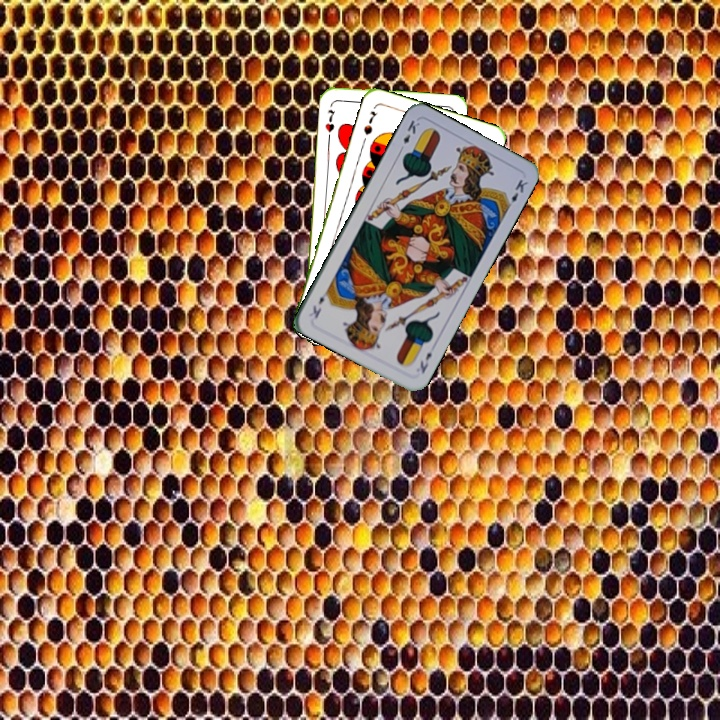EK: (396, 116, 423, 154), (416, 348, 435, 376)
H7: (321, 105, 337, 135)
S7: (360, 107, 380, 137)
